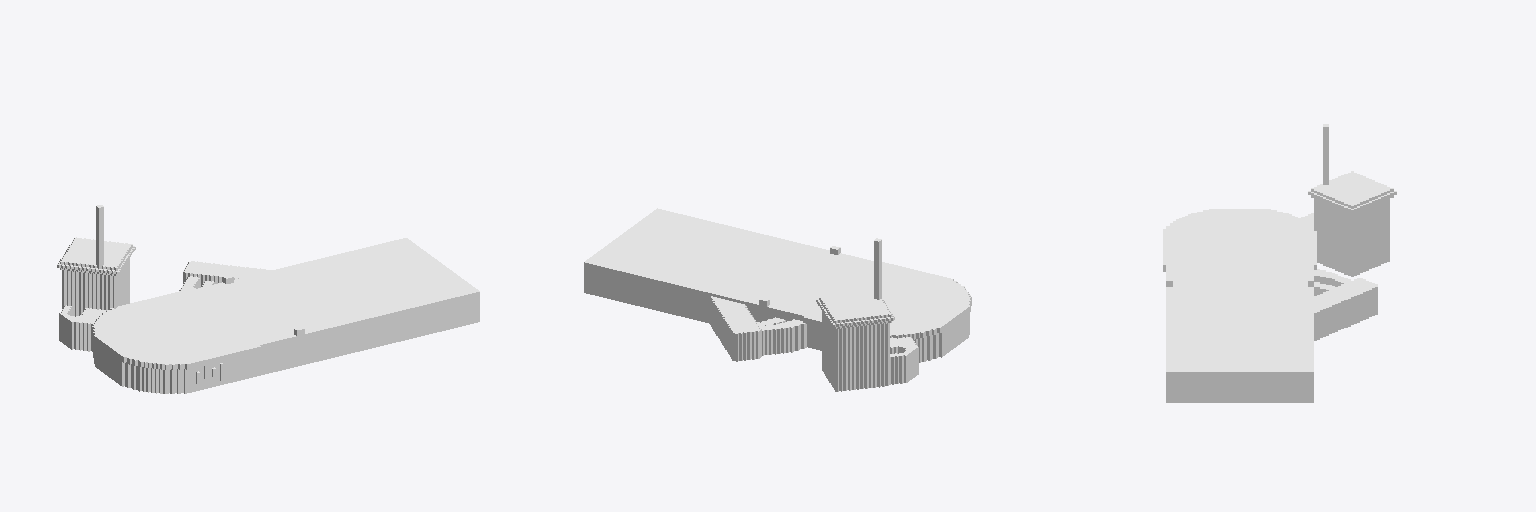
File: TransportAirport1.obj
3 views of the same model, side by side, from view 1: azimuth 30°, elevation 25°; view 2: azimuth 150°, elevation 25°; view 3: azimuth 270°, elevation 25° (orthographic).
Parts seen in each view (by area): view 1: object 1; view 2: object 1; view 3: object 1.
Part boxes in pixels (x1,y1,x2,y2): object 1: (57, 205, 479, 393); object 1: (584, 208, 971, 391); object 1: (1163, 124, 1396, 402).
Size of the model in its own units: 12.6 by 4.7 by 7.6.